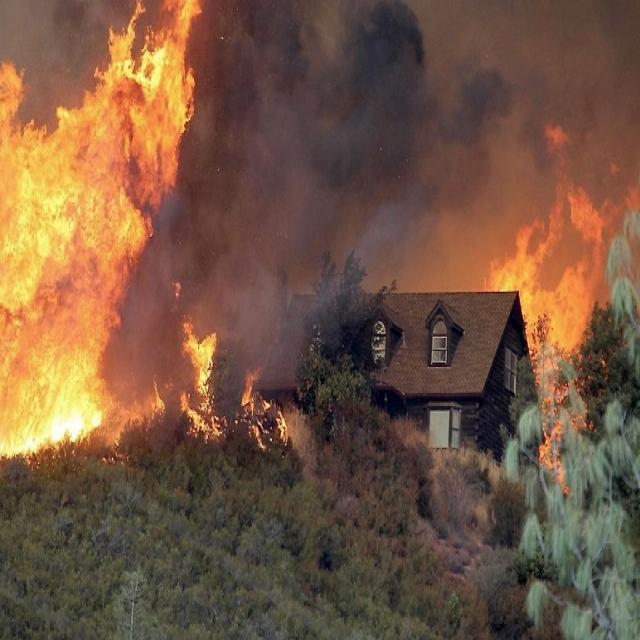fire: (3, 116, 104, 440), (108, 5, 191, 219), (522, 220, 590, 353)
